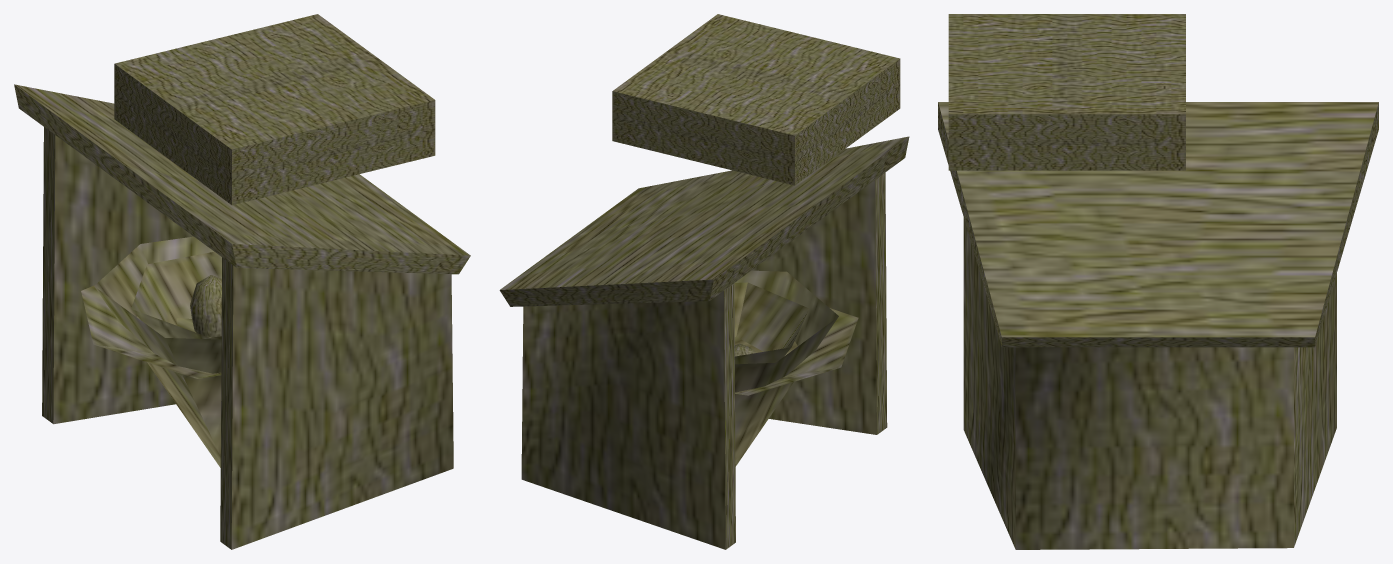
The model's file is kiwinest.obj.
3 views of the same model, side by side, from view 1: azimuth 30°, elevation 25°; view 2: azimuth 150°, elevation 25°; view 3: azimuth 270°, elevation 25° (orthographic). The views are drawn at different scales.
Parts seen in each view (by area): view 1: Box03, Box05, Duplicate01, Box04, Duplicate02, Plane01, Duplicate03; view 2: Duplicate01, Box05, Box04, Box03, Duplicate02, Plane01; view 3: Box04, Duplicate02, Box05, Box03, Duplicate01.
Boxes of the visible parts, bbox=[...] form: Box03: bbox=[220, 257, 453, 549]; Box05: bbox=[114, 14, 435, 205]; Duplicate01: bbox=[42, 127, 221, 467]; Box04: bbox=[14, 84, 470, 274]; Duplicate02: bbox=[131, 251, 221, 339]; Plane01: bbox=[81, 285, 221, 378]; Duplicate03: bbox=[190, 275, 221, 336]; Duplicate01: bbox=[521, 270, 838, 549]; Box05: bbox=[612, 14, 900, 185]; Box04: bbox=[499, 136, 909, 306]; Box03: bbox=[751, 172, 887, 434]; Duplicate02: bbox=[734, 282, 809, 364]; Plane01: bbox=[734, 308, 858, 395]; Box04: bbox=[938, 102, 1378, 347]; Duplicate02: bbox=[1015, 347, 1293, 549]; Box05: bbox=[948, 14, 1185, 170]; Box03: bbox=[963, 218, 1015, 548]; Duplicate01: bbox=[1294, 273, 1336, 546].
Bounding box in the file's own units: 31.16 × 43.72 × 38.99.
